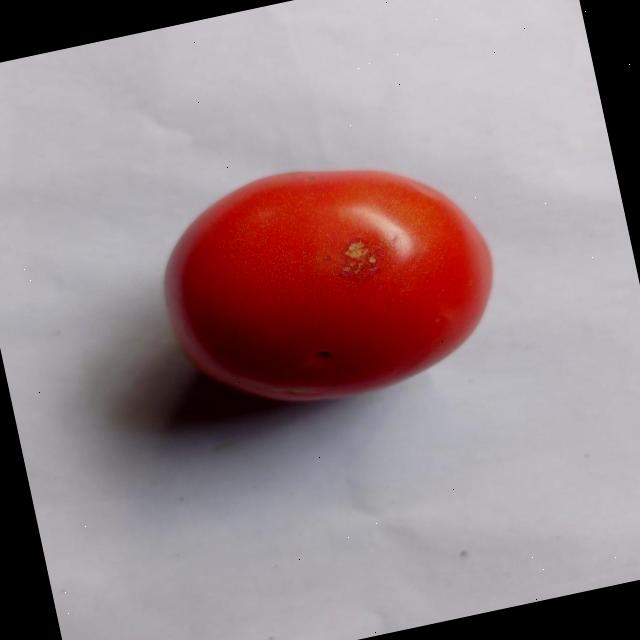Tomato: (137, 128, 518, 437)
